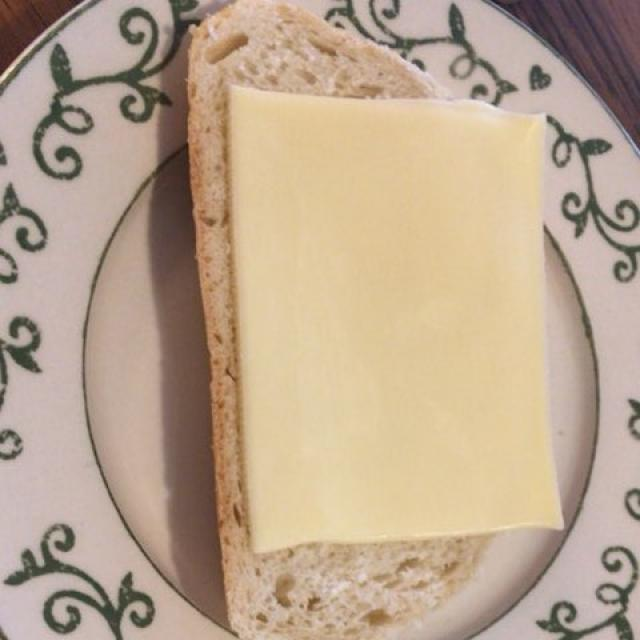bread: (189, 35, 569, 626)
cheese: (225, 86, 562, 562)
